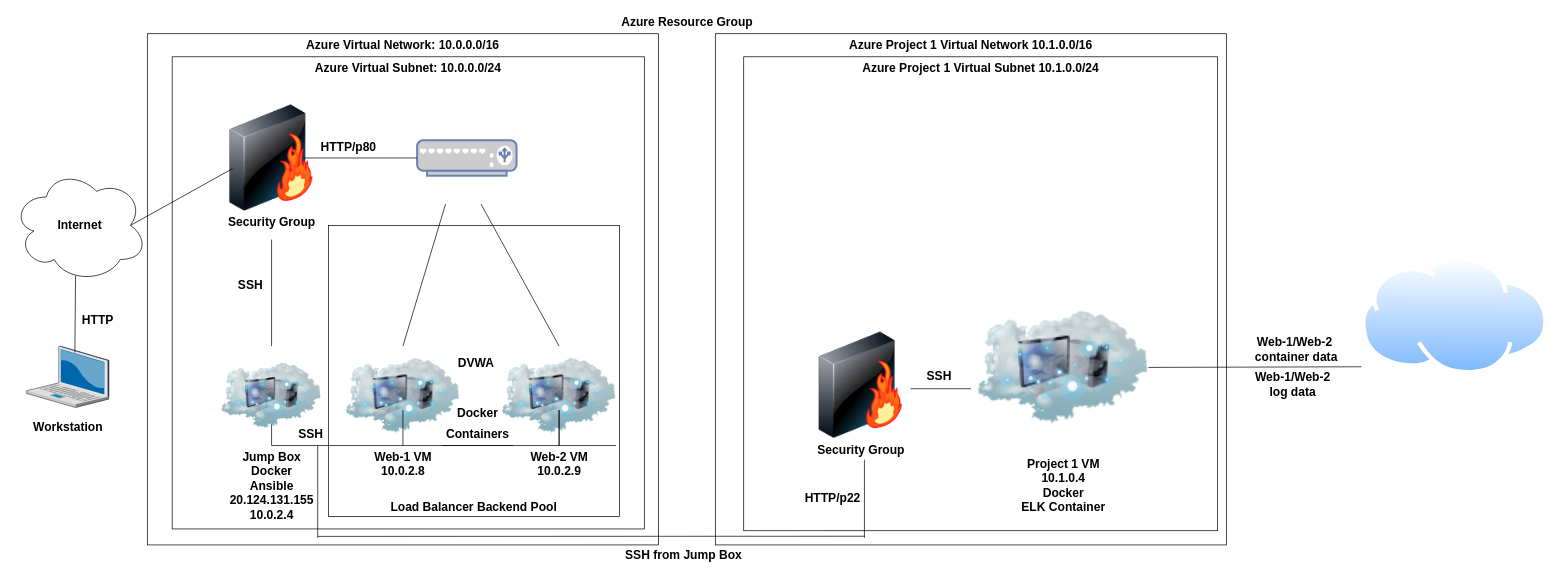
Image size: 1561x578. Some labels were removed from this diagram. The shapes that lost their labels are listed below. From the top down, each one's centre as x and y in pixels, then its label:
At (466,157): "Load Balancer 20.124.183.46".
At (1454,315): "Kibana".
